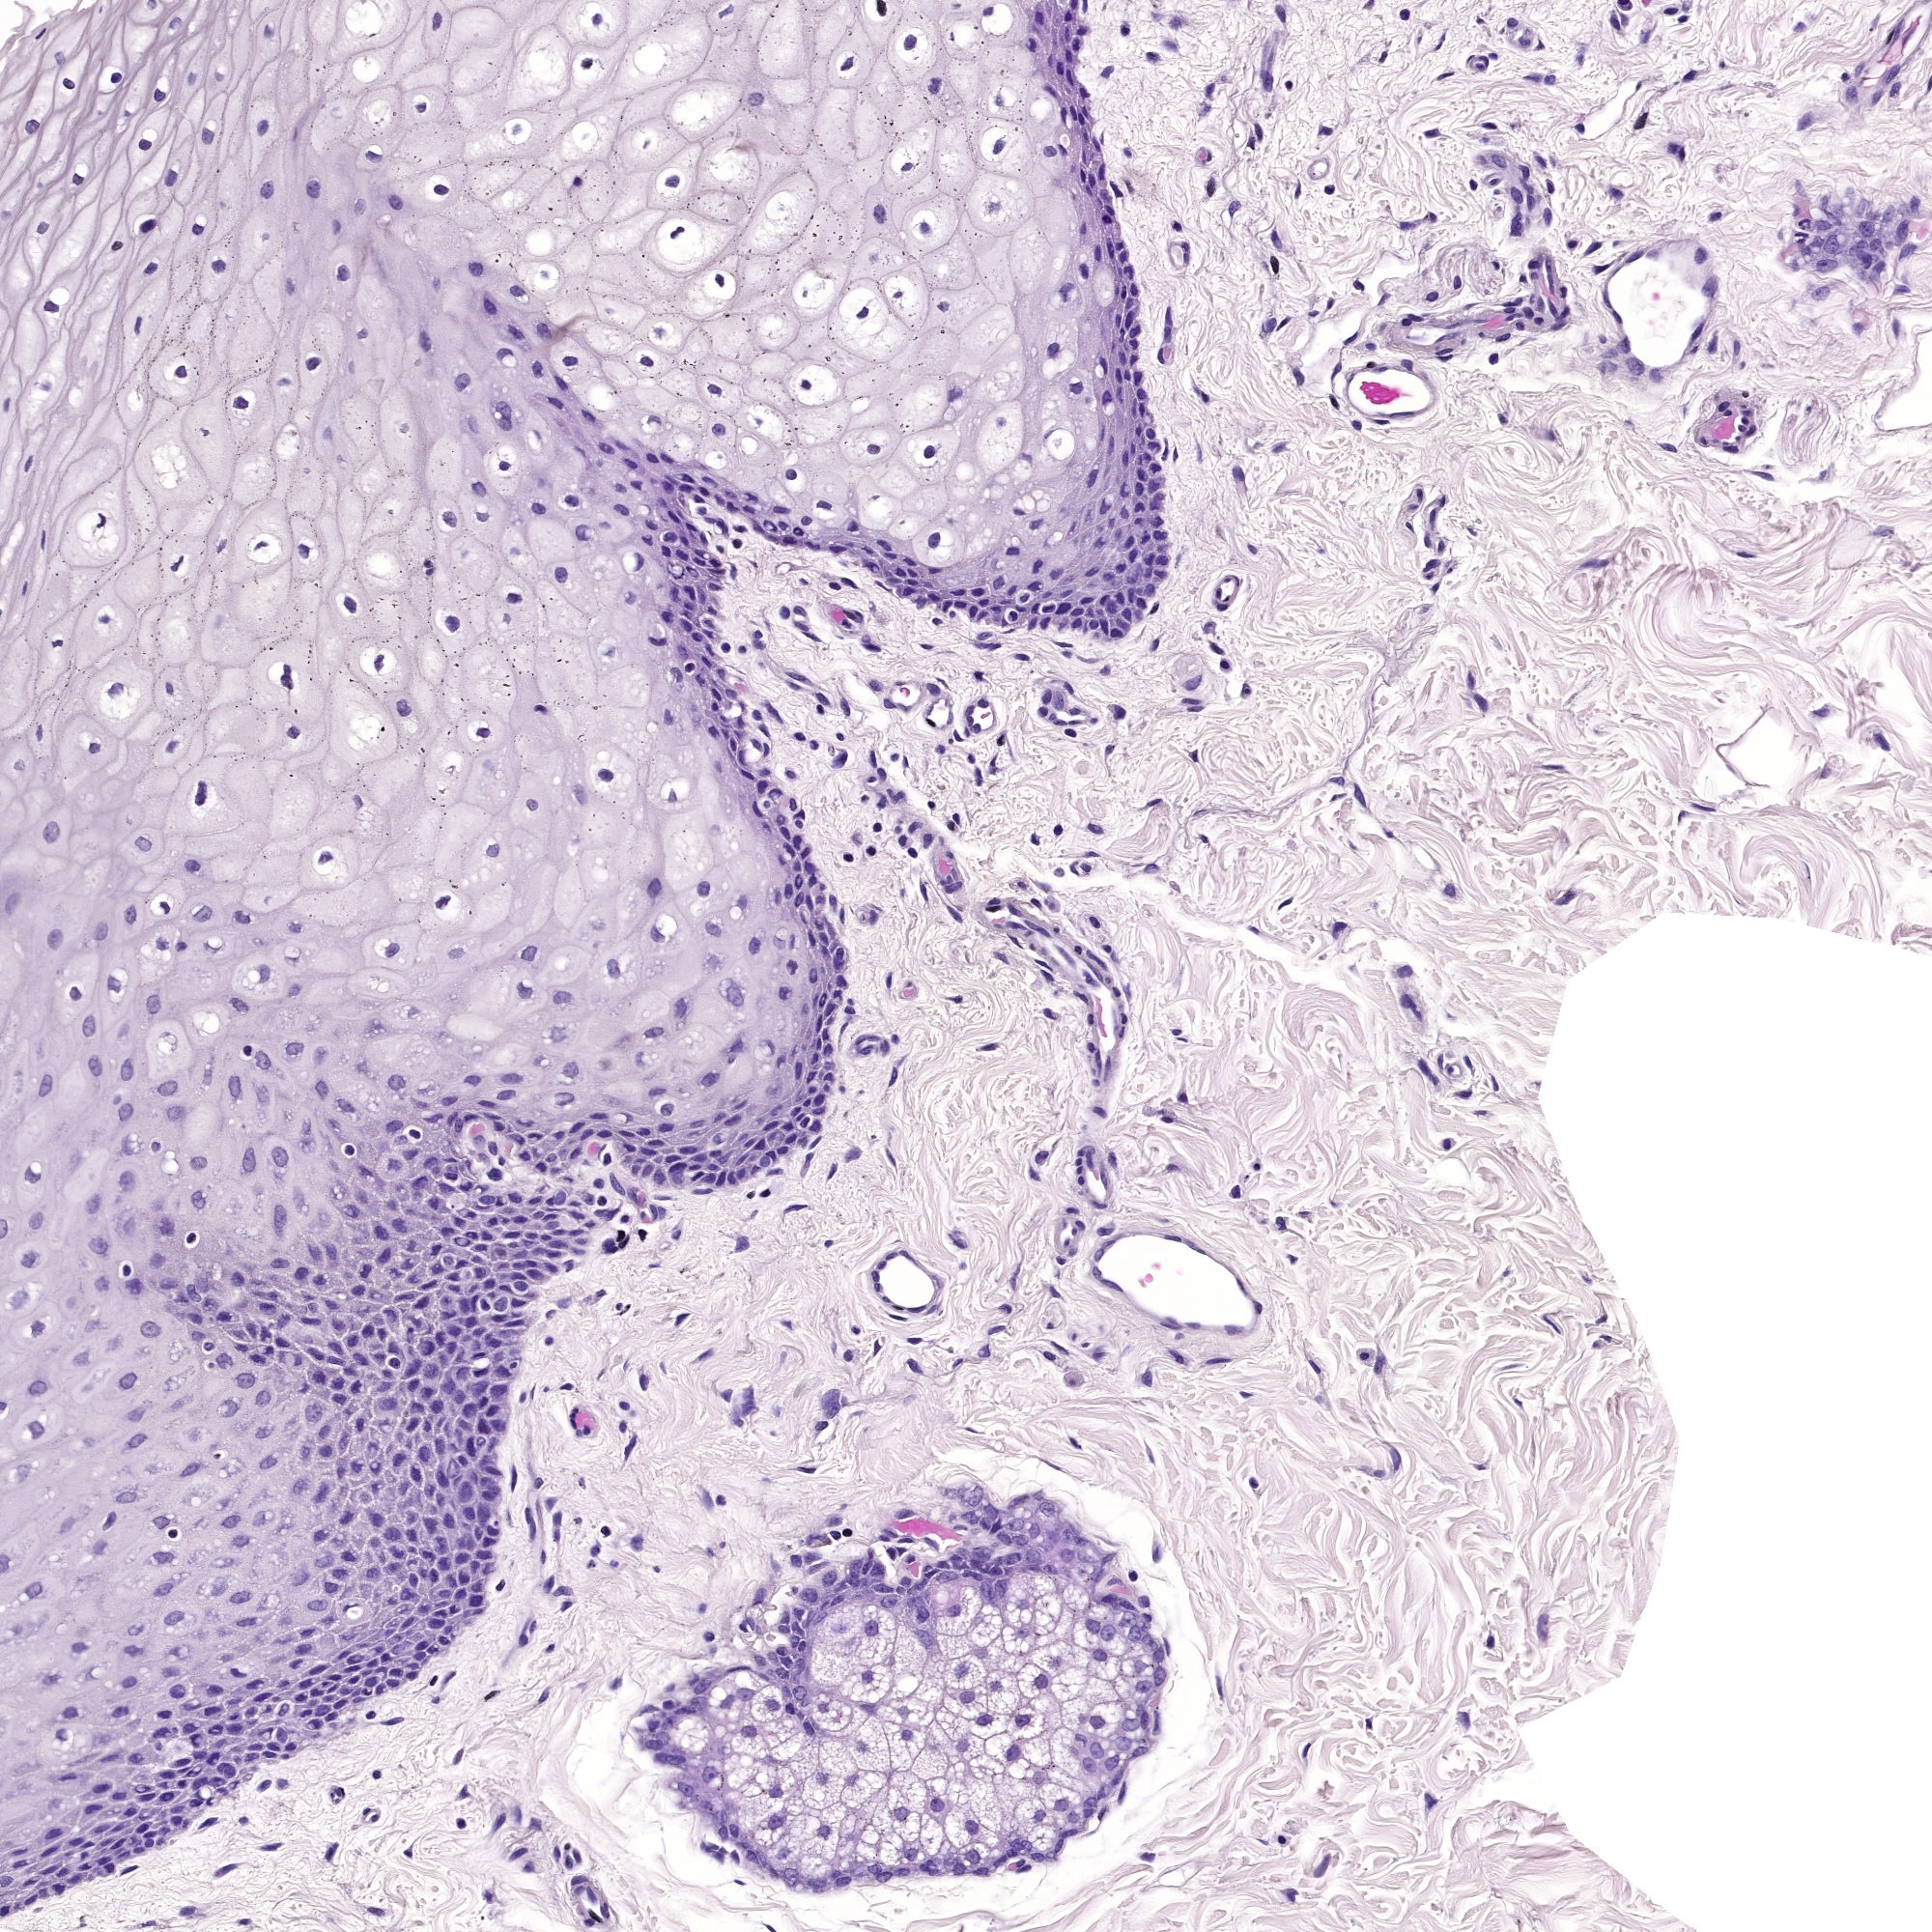epithelial: (911, 1601, 918, 1608), (41, 1085, 46, 1093), (90, 1201, 96, 1208), (97, 1545, 103, 1552), (134, 1410, 140, 1417), (48, 1677, 55, 1683), (117, 1709, 122, 1716), (952, 1610, 959, 1615), (973, 1493, 978, 1500), (991, 205, 1000, 209), (9, 899, 12, 908), (131, 911, 134, 920), (879, 209, 885, 214), (957, 1668, 962, 1674), (1139, 1748, 1145, 1753), (849, 1775, 855, 1780), (671, 179, 674, 186), (890, 554, 897, 557), (524, 989, 527, 996), (244, 1376, 248, 1384), (481, 1424, 485, 1431), (954, 1559, 957, 1566), (310, 364, 313, 370), (996, 143, 1000, 149), (605, 448, 610, 451), (1150, 485, 1154, 490), (1155, 502, 1159, 508), (1035, 563, 1039, 568), (931, 594, 936, 598), (658, 639, 662, 644), (51, 938, 55, 943), (203, 906, 205, 916), (676, 671, 679, 676), (832, 899, 835, 904), (656, 1175, 660, 1180), (395, 1164, 398, 1169), (609, 1214, 612, 1219), (379, 1228, 382, 1233), (396, 1221, 400, 1226), (131, 1221, 133, 1231), (228, 1520, 234, 1523), (322, 1451, 327, 1454), (428, 1368, 432, 1373), (464, 1490, 467, 1495), (387, 1532, 393, 1536), (410, 1534, 414, 1539), (324, 1560, 327, 1566), (306, 1629, 310, 1635), (683, 1789, 688, 1792), (796, 1690, 800, 1695), (918, 1583, 922, 1589), (977, 1555, 982, 1559), (924, 1637, 927, 1642), (1134, 1633, 1138, 1638), (741, 1845, 745, 1851), (143, 1794, 149, 1798), (73, 1877, 76, 1882), (103, 925, 104, 934), (67, 1520, 69, 1529), (879, 1587, 888, 1589), (191, 76, 195, 80), (48, 306, 51, 310), (395, 198, 396, 205), (1092, 570, 1095, 573), (1132, 579, 1136, 582), (1161, 575, 1164, 579), (899, 570, 902, 573), (702, 492, 706, 495), (665, 552, 669, 556), (713, 690, 717, 694), (711, 727, 715, 731), (713, 929, 717, 932), (754, 943, 755, 950), (817, 922, 821, 925), (828, 1007, 832, 1010), (780, 1146, 784, 1150), (770, 1123, 773, 1127), (676, 1175, 679, 1178), (522, 1155, 525, 1159), (469, 1111, 471, 1118), (534, 1274, 538, 1277), (294, 1046, 297, 1049), (87, 1024, 90, 1028), (94, 1067, 97, 1070), (124, 1109, 127, 1113), (18, 1299, 21, 1302), (322, 1090, 326, 1093), (276, 1260, 280, 1263), (156, 1260, 159, 1263), (35, 1424, 37, 1431), (127, 1378, 131, 1382), (150, 1329, 154, 1332), (262, 1398, 265, 1401), (163, 1557, 166, 1560), (237, 1539, 241, 1543), (249, 1325, 253, 1329), (334, 1346, 338, 1350), (340, 1442, 343, 1445), (492, 1339, 495, 1343), (458, 1353, 460, 1361), (387, 1373, 391, 1376), (441, 1442, 442, 1449), (441, 1474, 444, 1477), (444, 1522, 446, 1529), (161, 1589, 165, 1592), (131, 1647, 133, 1654), (297, 1575, 301, 1578), (317, 1605, 320, 1608), (464, 1578, 467, 1582), (303, 1645, 306, 1649), (356, 1698, 359, 1702), (280, 1736, 283, 1739), (196, 1782, 200, 1785), (747, 1729, 750, 1732), (768, 1704, 775, 1706), (708, 1771, 709, 1778), (786, 1661, 789, 1665), (782, 1617, 786, 1621), (939, 1576, 943, 1580), (985, 1589, 989, 1592), (989, 1511, 993, 1514), (1106, 1631, 1109, 1635), (874, 1868, 878, 1872), (842, 1881, 846, 1884), (824, 1828, 828, 1831), (732, 1829, 736, 1833), (166, 1794, 170, 1798), (101, 1861, 104, 1865), (18, 1863, 21, 1867), (30, 1898, 34, 1902), (159, 96, 161, 101), (76, 175, 78, 180), (359, 203, 361, 209), (435, 19, 437, 25), (1049, 150, 1051, 156), (1136, 375, 1138, 380), (1125, 455, 1127, 460), (1104, 506, 1106, 511), (1150, 556, 1152, 561), (1109, 579, 1115, 580), (1148, 571, 1150, 577), (1100, 600, 1106, 602), (1077, 610, 1083, 612), (883, 543, 888, 545), (833, 548, 839, 550), (796, 529, 798, 534), (745, 510, 750, 511), (113, 982, 119, 984), (778, 821, 784, 823), (789, 847, 791, 853), (800, 897, 801, 902), (817, 899, 823, 901), (796, 1069, 798, 1074), (821, 1095, 823, 1100), (731, 1177, 732, 1182), (506, 1095, 511, 1097), (594, 1115, 600, 1116), (513, 1198, 518, 1200), (479, 1269, 481, 1274), (479, 1246, 481, 1251), (384, 1256, 386, 1261), (423, 1300, 425, 1306), (150, 1000, 152, 1005), (315, 1247, 317, 1253), (80, 1357, 81, 1362), (136, 1437, 138, 1442), (189, 1468, 191, 1474), (269, 1293, 271, 1299), (320, 1490, 322, 1495), (444, 1353, 446, 1359), (428, 1389, 430, 1394), (464, 1369, 465, 1375), (490, 1410, 492, 1415), (428, 1488, 430, 1493), (345, 1514, 347, 1520), (432, 1523, 433, 1529), (479, 1509, 481, 1514), (173, 1614, 175, 1619), (320, 1707, 322, 1713), (794, 1640, 796, 1645), (810, 1592, 812, 1598), (971, 1575, 977, 1576), (1000, 1583, 1001, 1589), (971, 1854, 973, 1859), (911, 1851, 913, 1856), (773, 1821, 775, 1826), (724, 1833, 725, 1838), (665, 1759, 671, 1760), (140, 1829, 145, 1831), (108, 1867, 110, 1872), (57, 1886, 58, 1891), (145, 228, 149, 230), (170, 175, 172, 179), (205, 136, 207, 140), (177, 21, 179, 25), (288, 285, 292, 287), (343, 271, 345, 274), (722, 12, 725, 14), (513, 333, 517, 334), (556, 402, 557, 405), (586, 416, 589, 418), (908, 166, 909, 170), (927, 226, 929, 230), (718, 428, 720, 432), (954, 393, 955, 396), (1079, 30, 1081, 34), (1069, 55, 1070, 58), (1085, 134, 1086, 138), (1083, 228, 1085, 232), (1053, 349, 1054, 352), (1132, 287, 1134, 290), (1129, 317, 1131, 320), (1104, 363, 1106, 366), (1141, 409, 1143, 412), (1109, 520, 1111, 524), (1129, 541, 1131, 545), (1145, 536, 1146, 540), (1120, 596, 1122, 600), (1118, 632, 1120, 635), (1122, 625, 1125, 626), (1046, 623, 1047, 626), (1065, 593, 1067, 596), (1014, 510, 1017, 511), (996, 582, 1000, 584), (957, 591, 961, 593), (982, 602, 984, 605), (994, 607, 996, 610), (810, 545, 812, 548), (428, 570, 432, 571), (718, 501, 720, 504), (621, 508, 623, 511), (685, 540, 686, 543), (713, 586, 717, 587), (690, 591, 692, 594), (665, 614, 667, 617), (686, 625, 690, 626), (648, 538, 651, 540), (538, 508, 540, 511), (580, 531, 582, 534), (561, 573, 563, 577), (25, 586, 27, 589), (180, 947, 182, 950), (699, 678, 701, 681), (761, 782, 763, 786), (754, 809, 757, 810), (803, 853, 807, 855), (764, 826, 768, 828), (807, 867, 810, 869), (812, 879, 814, 883), (793, 966, 794, 970), (837, 962, 839, 966), (665, 1108, 667, 1111), (819, 1040, 821, 1044), (828, 1076, 832, 1077), (817, 1109, 821, 1111), (814, 1125, 816, 1129), (791, 1138, 793, 1141), (708, 1178, 711, 1180), (699, 1175, 701, 1178), (722, 1159, 725, 1161), (718, 1116, 720, 1120), (738, 1044, 740, 1047), (550, 1159, 554, 1161), (573, 1150, 575, 1154), (630, 1148, 633, 1150), (635, 1169, 637, 1173), (456, 1125, 458, 1129), (391, 1123, 393, 1127), (398, 1139, 400, 1143), (444, 1187, 446, 1191), (432, 1203, 435, 1205), (575, 1215, 579, 1217), (577, 1231, 579, 1235), (492, 1221, 495, 1223), (556, 1244, 557, 1247), (518, 1265, 520, 1269), (529, 1263, 531, 1267), (485, 1235, 487, 1238), (460, 1261, 464, 1263), (453, 1276, 456, 1277), (410, 1244, 412, 1247), (407, 1263, 410, 1265), (455, 1286, 456, 1290), (364, 1269, 366, 1272), (168, 1090, 170, 1093), (30, 1178, 34, 1180), (96, 1244, 97, 1247), (165, 1226, 166, 1230), (280, 1154, 281, 1157), (265, 1058, 267, 1062), (345, 1106, 349, 1108), (133, 1286, 134, 1290), (225, 1357, 226, 1361), (211, 1300, 212, 1304), (241, 1346, 244, 1348), (280, 1343, 283, 1345), (310, 1320, 311, 1323), (308, 1295, 310, 1299), (318, 1276, 320, 1279), (318, 1378, 322, 1380), (303, 1389, 306, 1391), (354, 1384, 356, 1387), (299, 1484, 301, 1488), (357, 1465, 359, 1468), (364, 1329, 368, 1330), (382, 1332, 384, 1336), (395, 1346, 396, 1350), (334, 1359, 338, 1361), (349, 1369, 352, 1371), (448, 1315, 451, 1316), (513, 1323, 517, 1325), (455, 1329, 456, 1332), (479, 1371, 481, 1375), (501, 1373, 502, 1376), (412, 1385, 414, 1389), (483, 1398, 485, 1401), (416, 1405, 418, 1408), (465, 1422, 467, 1426), (398, 1456, 402, 1458), (416, 1474, 418, 1477), (347, 1555, 350, 1557), (377, 1518, 379, 1522), (396, 1553, 398, 1557), (410, 1548, 412, 1552), (426, 1553, 428, 1557), (129, 1681, 131, 1684), (433, 1575, 435, 1578), (476, 1599, 478, 1603), (451, 1582, 453, 1585), (442, 1592, 446, 1594), (441, 1603, 444, 1605), (407, 1621, 409, 1624), (423, 1644, 425, 1647), (409, 1674, 410, 1677), (364, 1691, 368, 1693), (350, 1668, 352, 1672), (350, 1658, 352, 1661), (317, 1668, 318, 1672), (334, 1675, 336, 1679), (306, 1683, 308, 1686), (262, 1695, 264, 1698), (211, 1707, 212, 1711), (234, 1698, 235, 1702), (317, 1723, 318, 1727), (313, 1693, 317, 1695), (225, 1769, 228, 1771), (692, 1704, 695, 1706), (786, 1691, 789, 1693), (823, 1707, 826, 1709), (865, 1675, 867, 1679), (757, 1660, 759, 1663), (794, 1629, 798, 1631), (798, 1612, 800, 1615), (828, 1576, 830, 1580), (840, 1587, 842, 1591), (823, 1605, 824, 1608), (821, 1617, 823, 1621), (856, 1568, 858, 1571), (890, 1599, 893, 1601), (901, 1591, 902, 1594), (929, 1573, 931, 1576), (924, 1610, 925, 1614), (971, 1518, 975, 1520), (1046, 1507, 1049, 1509), (1067, 1532, 1069, 1536), (1079, 1537, 1081, 1541), (1051, 1569, 1053, 1573), (1085, 1559, 1086, 1562), (980, 1651, 982, 1654), (968, 1697, 970, 1700), (1120, 1743, 1122, 1746), (1116, 1778, 1118, 1782), (1095, 1752, 1097, 1755), (1111, 1760, 1115, 1762), (1086, 1764, 1088, 1767), (984, 1718, 987, 1720), (1035, 1776, 1037, 1780), (961, 1741, 962, 1744), (1065, 1833, 1069, 1835), (1024, 1844, 1026, 1847), (1000, 1859, 1003, 1861), (936, 1805, 938, 1808), (899, 1813, 901, 1817), (924, 1867, 925, 1870), (904, 1870, 906, 1874), (817, 1888, 821, 1890), (787, 1872, 791, 1874), (771, 1872, 775, 1874), (718, 1819, 722, 1821), (706, 1805, 708, 1808), (51, 1833, 55, 1835), (74, 1840, 76, 1844), (149, 1842, 150, 1845), (138, 1849, 140, 1852), (124, 1854, 126, 1858), (62, 1870, 64, 1874), (39, 35, 41, 37), (218, 76, 219, 78), (315, 188, 317, 189), (150, 269, 152, 271), (515, 131, 517, 133), (570, 361, 571, 363), (678, 230, 679, 232), (359, 334, 361, 336), (506, 410, 508, 412), (1083, 90, 1085, 92), (1063, 111, 1065, 113), (1081, 119, 1083, 120), (1095, 145, 1097, 147), (1063, 149, 1065, 150), (1092, 179, 1093, 180), (1109, 209, 1111, 211), (1099, 253, 1100, 255), (1118, 246, 1120, 248), (1076, 387, 1077, 389), (1139, 458, 1141, 460), (1152, 467, 1154, 469), (1161, 561, 1162, 563), (1139, 602, 1141, 603), (1109, 605, 1111, 607), (1063, 607, 1065, 609), (1085, 600, 1086, 602), (1077, 623, 1079, 625), (1031, 621, 1033, 623), (1035, 586, 1037, 587), (1012, 550, 1014, 552), (1035, 522, 1037, 524), (1005, 602, 1007, 603), (911, 571, 913, 573), (911, 580, 913, 582), (978, 591, 980, 593), (971, 610, 973, 612), (945, 605, 947, 607), (867, 548, 869, 550), (803, 518, 805, 520), (782, 510, 784, 511), (426, 563, 428, 564), (653, 456, 655, 458), (750, 497, 752, 499), (731, 508, 732, 510), (699, 497, 701, 499), (621, 487, 623, 488), (672, 515, 674, 517), (690, 525, 692, 527), (685, 554, 686, 556), (699, 563, 701, 564), (715, 561, 717, 563), (717, 570, 718, 571), (688, 614, 690, 616), (688, 605, 690, 607), (711, 610, 713, 612), (653, 525, 655, 527), (571, 499, 573, 501), (481, 517, 483, 518), (478, 487, 479, 488), (350, 602, 352, 603), (453, 621, 455, 623), (175, 564, 177, 566), (260, 545, 262, 547), (50, 828, 51, 830), (142, 842, 143, 844), (704, 658, 706, 660), (713, 706, 715, 708), (731, 741, 732, 743), (784, 832, 786, 833), (794, 840, 796, 842), (796, 865, 798, 867), (743, 902, 745, 904), (810, 936, 812, 938), (823, 950, 824, 952), (556, 1033, 557, 1035), (837, 994, 839, 996), (823, 1000, 824, 1001), (826, 1033, 828, 1035), (770, 1152, 771, 1154), (754, 1169, 755, 1171), (711, 1168, 713, 1169), (775, 1109, 777, 1111), (570, 1067, 571, 1069), (563, 1093, 564, 1095), (517, 1136, 518, 1138), (540, 1168, 541, 1169), (603, 1132, 605, 1134), (626, 1132, 628, 1134), (644, 1131, 646, 1132), (665, 1127, 667, 1129), (655, 1141, 656, 1143), (648, 1152, 649, 1154), (688, 1148, 690, 1150), (432, 1118, 433, 1120), (421, 1180, 423, 1182), (453, 1168, 455, 1169), (499, 1201, 501, 1203), (575, 1205, 577, 1207), (600, 1212, 602, 1214), (589, 1223, 591, 1224), (559, 1231, 561, 1233), (548, 1215, 550, 1217), (504, 1221, 506, 1223), (518, 1304, 520, 1306), (476, 1258, 478, 1260), (428, 1284, 430, 1286), (462, 1304, 464, 1306), (235, 1001, 237, 1003), (193, 1295, 195, 1297), (90, 1325, 92, 1327), (126, 1497, 127, 1499), (262, 1433, 264, 1435), (265, 1463, 267, 1465), (223, 1315, 225, 1316), (265, 1307, 267, 1309), (237, 1332, 239, 1334), (265, 1330, 267, 1332), (331, 1304, 333, 1306), (338, 1325, 340, 1327), (297, 1359, 299, 1361), (338, 1382, 340, 1384), (317, 1408, 318, 1410), (324, 1431, 326, 1433), (304, 1451, 306, 1453), (359, 1422, 361, 1424), (414, 1320, 416, 1322), (359, 1359, 361, 1361), (446, 1300, 448, 1302), (479, 1353, 481, 1355), (481, 1387, 483, 1389), (458, 1398, 460, 1399), (382, 1387, 384, 1389), (471, 1444, 472, 1445), (464, 1461, 465, 1463), (490, 1470, 492, 1472), (474, 1476, 476, 1477), (487, 1479, 488, 1481), (410, 1518, 412, 1520), (441, 1499, 442, 1500), (133, 1631, 134, 1633), (219, 1583, 221, 1585), (163, 1714, 165, 1716), (108, 1759, 110, 1760), (331, 1587, 333, 1589), (372, 1571, 373, 1573), (478, 1587, 479, 1589), (423, 1608, 425, 1610), (435, 1622, 437, 1624), (444, 1640, 446, 1642), (398, 1670, 400, 1672), (393, 1683, 395, 1684), (364, 1672, 366, 1674), (377, 1651, 379, 1652), (253, 1684, 255, 1686), (161, 1732, 163, 1734), (133, 1757, 134, 1759), (340, 1704, 341, 1706), (272, 1746, 274, 1748), (257, 1748, 258, 1750), (193, 1737, 195, 1739), (186, 1729, 188, 1730), (180, 1762, 182, 1764), (200, 1755, 202, 1757), (651, 1725, 653, 1727), (745, 1691, 747, 1693), (805, 1727, 807, 1729), (782, 1651, 784, 1652), (837, 1599, 839, 1601), (853, 1580, 855, 1582), (975, 1564, 977, 1566), (1001, 1539, 1003, 1541), (1021, 1537, 1023, 1539), (1014, 1525, 1016, 1527), (984, 1525, 985, 1527), (996, 1688, 998, 1690), (1095, 1624, 1097, 1626), (1099, 1652, 1100, 1654), (1150, 1642, 1152, 1644), (1141, 1686, 1143, 1688), (1099, 1792, 1100, 1794), (1058, 1844, 1060, 1845), (1017, 1845, 1019, 1847), (1010, 1852, 1012, 1854), (782, 1852, 784, 1854), (119, 1798, 120, 1799), (129, 1810, 131, 1812), (19, 1851, 21, 1852), (177, 1808, 179, 1810), (150, 1833, 152, 1835), (101, 1844, 103, 1845), (88, 1844, 90, 1845)
fibroblast and endothelial: (1824, 264, 1833, 269), (870, 681, 878, 686), (775, 1560, 780, 1568), (911, 826, 916, 832), (1016, 1499, 1021, 1504), (842, 701, 846, 708), (931, 686, 938, 690), (513, 1852, 520, 1856), (1231, 203, 1237, 207), (1299, 373, 1302, 379), (1562, 311, 1566, 317), (1500, 416, 1504, 421), (1640, 119, 1644, 124), (1711, 214, 1716, 218), (1867, 226, 1870, 232), (1550, 435, 1555, 439), (1189, 683, 1194, 686), (1479, 697, 1483, 702), (1550, 766, 1555, 770), (1095, 1108, 1099, 1113), (1290, 1256, 1293, 1261), (961, 1242, 964, 1247), (492, 1143, 495, 1148), (702, 1353, 706, 1359), (996, 1329, 1001, 1332), (1311, 1366, 1316, 1369), (812, 1568, 817, 1571), (701, 1684, 704, 1690), (1322, 1865, 1325, 1870), (373, 1909, 379, 1913), (1592, 561, 1601, 563), (699, 1191, 708, 1192), (1460, 1093, 1468, 1095), (1283, 320, 1286, 324), (1479, 65, 1483, 69), (1530, 198, 1532, 205), (1499, 336, 1502, 340), (1536, 318, 1539, 322), (1637, 81, 1640, 85), (1805, 249, 1808, 253), (1884, 531, 1888, 534), (1667, 444, 1670, 448), (1215, 593, 1219, 596), (1215, 648, 1219, 651), (980, 635, 984, 639), (764, 731, 768, 734), (821, 695, 824, 699), (1086, 853, 1090, 856), (993, 908, 996, 911), (950, 885, 954, 888), (1035, 927, 1039, 931), (1334, 796, 1338, 800), (1079, 994, 1083, 998), (1109, 1284, 1113, 1288), (863, 1049, 867, 1053), (614, 1184, 617, 1187), (483, 1157, 487, 1161), (563, 1302, 566, 1306), (492, 1530, 495, 1534), (460, 1557, 464, 1560), (628, 1447, 632, 1451), (832, 1398, 833, 1405), (819, 1422, 823, 1426), (803, 1468, 810, 1470), (911, 1364, 915, 1368), (833, 1516, 837, 1520), (1231, 1327, 1235, 1330), (1479, 1467, 1483, 1470), (1127, 1605, 1131, 1608), (667, 1706, 671, 1709), (692, 1677, 695, 1681), (393, 1720, 396, 1723), (1145, 1856, 1148, 1859), (706, 1847, 709, 1851), (271, 1847, 274, 1851), (1408, 1000, 1412, 1003), (1525, 39, 1527, 44), (1490, 55, 1495, 57), (1518, 324, 1520, 329), (1762, 476, 1767, 478), (846, 582, 851, 584), (773, 709, 775, 715), (872, 755, 874, 761), (897, 794, 899, 800), (888, 702, 890, 708), (1203, 835, 1205, 840), (1822, 711, 1824, 717), (885, 1046, 886, 1051), (743, 1242, 745, 1247), (557, 1532, 559, 1537), (916, 1338, 918, 1343), (1005, 1309, 1010, 1311), (904, 1539, 909, 1541), (932, 1541, 934, 1546), (1240, 1281, 1242, 1286), (1219, 1684, 1221, 1690), (456, 1755, 458, 1760), (1100, 1812, 1102, 1817), (713, 1847, 718, 1849), (736, 1856, 738, 1861), (529, 1865, 531, 1870), (579, 1854, 580, 1859), (1495, 1085, 1497, 1090), (1106, 69, 1109, 71), (1152, 55, 1154, 58), (1171, 46, 1173, 50), (1210, 184, 1212, 188), (1168, 331, 1169, 334), (1159, 356, 1161, 359), (1534, 76, 1537, 78), (1493, 180, 1497, 182), (1527, 186, 1530, 188), (1516, 193, 1518, 196), (1338, 366, 1339, 370), (1592, 246, 1596, 248), (1614, 191, 1615, 195), (1608, 354, 1612, 356), (1606, 363, 1608, 366), (1801, 25, 1803, 28), (1891, 73, 1893, 76), (1895, 87, 1897, 90), (1888, 214, 1890, 218), (1821, 292, 1822, 295), (1721, 405, 1723, 409), (1431, 563, 1433, 566), (1221, 607, 1224, 609), (1226, 596, 1228, 600), (1164, 449, 1166, 453), (740, 648, 741, 651), (757, 743, 759, 747), (741, 757, 743, 761), (731, 571, 734, 573), (842, 755, 844, 759), (881, 771, 883, 775), (881, 801, 883, 805), (924, 888, 925, 892), (950, 824, 952, 828), (977, 727, 978, 731), (929, 722, 932, 724), (1000, 741, 1001, 745), (1042, 709, 1044, 713), (1067, 685, 1069, 688), (1085, 867, 1088, 869), (1012, 925, 1016, 927), (1000, 955, 1003, 957), (1108, 669, 1109, 672), (1090, 660, 1092, 663), (1191, 699, 1192, 702), (1192, 708, 1194, 711), (1401, 973, 1403, 977), (1175, 1031, 1177, 1035), (1184, 1099, 1185, 1102), (1166, 1120, 1169, 1122), (989, 1047, 991, 1051), (1171, 1168, 1173, 1171), (1235, 1191, 1237, 1194), (1283, 1221, 1284, 1224), (1097, 1205, 1099, 1208), (1102, 1175, 1104, 1178), (1100, 1231, 1104, 1233), (1070, 1207, 1072, 1210), (1077, 1224, 1081, 1226), (1074, 1230, 1076, 1233), (1067, 1240, 1069, 1244), (1072, 1251, 1074, 1254), (1108, 1242, 1109, 1246), (1054, 1292, 1056, 1295), (860, 1039, 863, 1040), (775, 1169, 778, 1171), (750, 1192, 752, 1196), (796, 1205, 798, 1208), (881, 1263, 883, 1267), (612, 1249, 614, 1253), (623, 1244, 625, 1247), (663, 1210, 665, 1214), (644, 1215, 646, 1219), (499, 1161, 502, 1162), (462, 1541, 465, 1543), (444, 1562, 446, 1566), (485, 1553, 488, 1555), (646, 1380, 648, 1384), (536, 1483, 538, 1486), (550, 1502, 552, 1506), (543, 1557, 545, 1560), (591, 1562, 593, 1566), (736, 1421, 740, 1422), (918, 1307, 920, 1311), (931, 1307, 934, 1309), (984, 1352, 985, 1355), (1047, 1353, 1049, 1357), (1056, 1343, 1058, 1346), (890, 1534, 893, 1536), (892, 1552, 893, 1555), (899, 1550, 901, 1553), (821, 1537, 824, 1539), (796, 1559, 800, 1560), (1180, 1359, 1182, 1362), (1168, 1325, 1171, 1327), (1194, 1323, 1196, 1327), (1378, 1472, 1380, 1476), (1155, 1553, 1157, 1557), (1108, 1541, 1109, 1545), (1108, 1596, 1109, 1599), (1166, 1642, 1168, 1645), (809, 1552, 810, 1555), (761, 1592, 763, 1596), (750, 1619, 752, 1622), (734, 1668, 738, 1670), (614, 1681, 616, 1684), (435, 1698, 437, 1702), (264, 1783, 265, 1787), (648, 1707, 649, 1711), (1288, 1893, 1290, 1897), (1024, 1867, 1026, 1870), (1017, 1863, 1021, 1865), (718, 1856, 720, 1859), (462, 1792, 465, 1794), (577, 1891, 580, 1893), (373, 1817, 375, 1821), (1177, 23, 1178, 25), (1127, 152, 1129, 154), (1116, 189, 1118, 191), (1355, 285, 1357, 287), (1313, 313, 1315, 315), (1438, 48, 1440, 50), (1442, 37, 1444, 39), (1580, 57, 1582, 58), (1468, 57, 1470, 58), (1445, 74, 1447, 76), (1580, 126, 1582, 127), (1488, 124, 1490, 126), (1500, 157, 1502, 159), (1483, 159, 1484, 161), (1539, 159, 1541, 161), (1525, 172, 1527, 173), (1514, 228, 1516, 230), (1546, 216, 1548, 218), (1431, 216, 1433, 218), (1407, 225, 1408, 226), (1415, 317, 1417, 318), (1384, 295, 1385, 297), (1352, 338, 1353, 340), (1332, 400, 1334, 402), (1355, 426, 1357, 428), (1380, 421, 1382, 423), (1399, 414, 1401, 416), (1453, 326, 1454, 327), (1479, 333, 1481, 334), (1514, 301, 1516, 303), (1495, 265, 1497, 267), (1553, 310, 1555, 311), (1557, 326, 1559, 327), (1598, 269, 1599, 271), (1614, 21, 1615, 23), (1644, 37, 1645, 39), (1690, 76, 1691, 78), (1633, 257, 1635, 258), (1617, 318, 1619, 320), (1698, 329, 1700, 331), (1693, 350, 1695, 352), (1851, 94, 1852, 96), (1890, 37, 1891, 39), (1861, 244, 1863, 246), (1905, 249, 1907, 251), (1858, 329, 1859, 331), (1821, 225, 1822, 226), (1704, 441, 1706, 442), (1750, 432, 1752, 433), (1822, 474, 1824, 476), (1470, 531, 1472, 533), (1426, 541, 1428, 543), (1279, 448, 1281, 449), (1251, 548, 1253, 550), (1235, 579, 1237, 580), (1152, 609, 1154, 610), (1152, 644, 1154, 646), (1210, 626, 1212, 628), (1063, 644, 1065, 646), (1010, 632, 1012, 633), (851, 616, 853, 617), (870, 646, 872, 648), (800, 626, 801, 628), (810, 637, 812, 639), (846, 623, 847, 625), (800, 812, 801, 814), (794, 676, 796, 678), (794, 686, 796, 688), (789, 773, 791, 775), (941, 681, 943, 683), (977, 770, 978, 771), (1074, 711, 1076, 713), (1053, 718, 1054, 720), (1072, 720, 1074, 722), (1095, 832, 1097, 833), (1033, 840, 1035, 842), (1056, 870, 1058, 872), (1021, 885, 1023, 886), (955, 915, 957, 916), (943, 883, 945, 885), (950, 855, 952, 856), (1035, 902, 1037, 904), (1093, 957, 1095, 959), (1044, 962, 1046, 964), (1063, 954, 1065, 955), (1152, 867, 1154, 869), (1152, 801, 1154, 803), (1192, 757, 1194, 759), (1339, 780, 1341, 782), (1338, 925, 1339, 927), (1389, 835, 1391, 837), (1566, 895, 1568, 897), (1881, 740, 1882, 741), (1095, 971, 1097, 973), (1118, 993, 1120, 994), (1127, 991, 1129, 993), (1122, 1030, 1123, 1031), (1182, 1039, 1184, 1040), (1090, 1047, 1092, 1049), (1171, 1237, 1173, 1238), (1194, 1246, 1196, 1247), (842, 1024, 844, 1026), (890, 1157, 892, 1159), (906, 1254, 908, 1256), (886, 1299, 888, 1300), (607, 1242, 609, 1244), (655, 1210, 656, 1212), (600, 1293, 602, 1295), (566, 1385, 568, 1387), (571, 1415, 573, 1417), (527, 1513, 529, 1514), (897, 1316, 899, 1318), (1086, 1343, 1088, 1345), (970, 1430, 971, 1431), (1051, 1463, 1053, 1465), (1214, 1361, 1215, 1362), (1251, 1483, 1253, 1484), (1396, 1458, 1398, 1460), (1109, 1559, 1111, 1560), (1148, 1615, 1150, 1617), (996, 1525, 998, 1527), (669, 1686, 671, 1688), (541, 1697, 543, 1698), (448, 1677, 449, 1679), (1430, 1799, 1431, 1801), (770, 1928, 771, 1930), (499, 1821, 501, 1822), (579, 1879, 580, 1881), (487, 1897, 488, 1898), (225, 1868, 226, 1870), (129, 1870, 131, 1872)
inflammatory: (901, 837, 904, 842), (557, 1194, 561, 1200), (908, 42, 911, 46), (1571, 242, 1575, 246), (782, 610, 786, 614), (847, 64, 849, 69), (285, 676, 287, 681), (847, 1353, 849, 1359), (1125, 30, 1127, 34), (1511, 23, 1514, 25), (1493, 357, 1495, 361), (1672, 9, 1674, 12), (1801, 235, 1805, 237), (1803, 221, 1805, 225), (623, 1215, 625, 1219), (640, 1231, 642, 1235), (1622, 2, 1624, 4), (1256, 1164, 1258, 1166), (1364, 1355, 1366, 1357)
lymphocyte: (391, 947, 396, 954), (653, 885, 656, 895), (655, 932, 660, 938), (605, 775, 612, 778), (444, 902, 448, 908), (449, 1175, 455, 1178), (73, 991, 76, 996), (1329, 189, 1332, 193), (987, 9, 991, 12), (402, 706, 405, 709), (909, 851, 913, 855), (982, 702, 985, 706), (598, 1182, 602, 1185), (126, 1270, 129, 1274), (370, 1714, 373, 1718), (322, 858, 324, 863), (239, 916, 241, 922), (527, 954, 529, 959), (625, 1422, 626, 1428), (67, 81, 69, 85), (239, 400, 241, 403), (1288, 83, 1290, 87), (833, 584, 835, 587), (736, 541, 738, 545), (667, 536, 671, 538), (483, 732, 487, 734), (538, 708, 541, 709), (665, 715, 667, 718), (614, 968, 616, 971), (414, 1132, 416, 1136), (520, 1284, 522, 1288), (805, 1118, 807, 1122), (172, 1532, 173, 1536), (487, 1304, 488, 1307), (625, 1405, 626, 1408), (377, 1775, 379, 1778), (881, 7, 883, 9), (1047, 609, 1049, 610), (823, 502, 824, 504), (172, 747, 173, 748), (579, 793, 580, 794), (453, 954, 455, 955), (876, 826, 878, 828), (929, 803, 931, 805), (840, 736, 842, 738), (800, 736, 801, 738), (1070, 731, 1072, 732), (766, 1161, 768, 1162), (849, 1010, 851, 1012), (189, 1235, 191, 1237), (513, 1364, 515, 1366), (589, 1923, 591, 1925)
